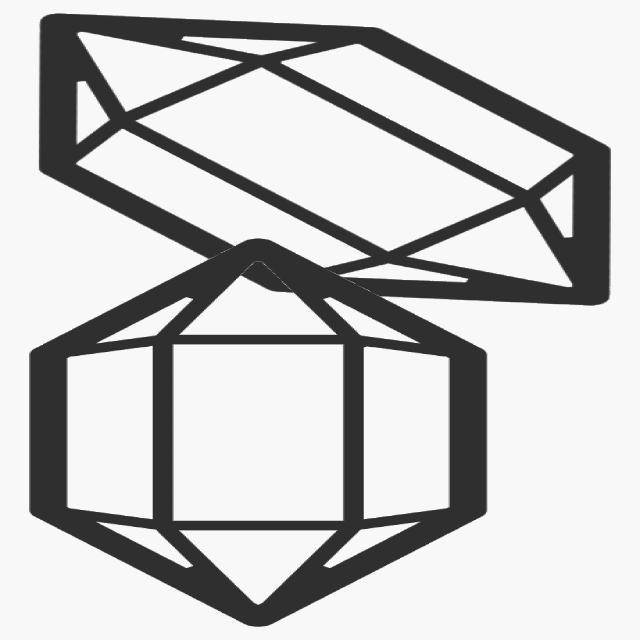crystal: (15, 230, 505, 635), (25, 10, 621, 310)
